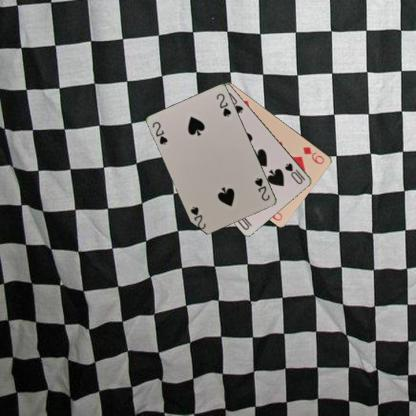10s: (282, 160, 307, 186)
2s: (252, 175, 271, 202), (151, 119, 170, 146)
9d: (300, 144, 326, 165)
